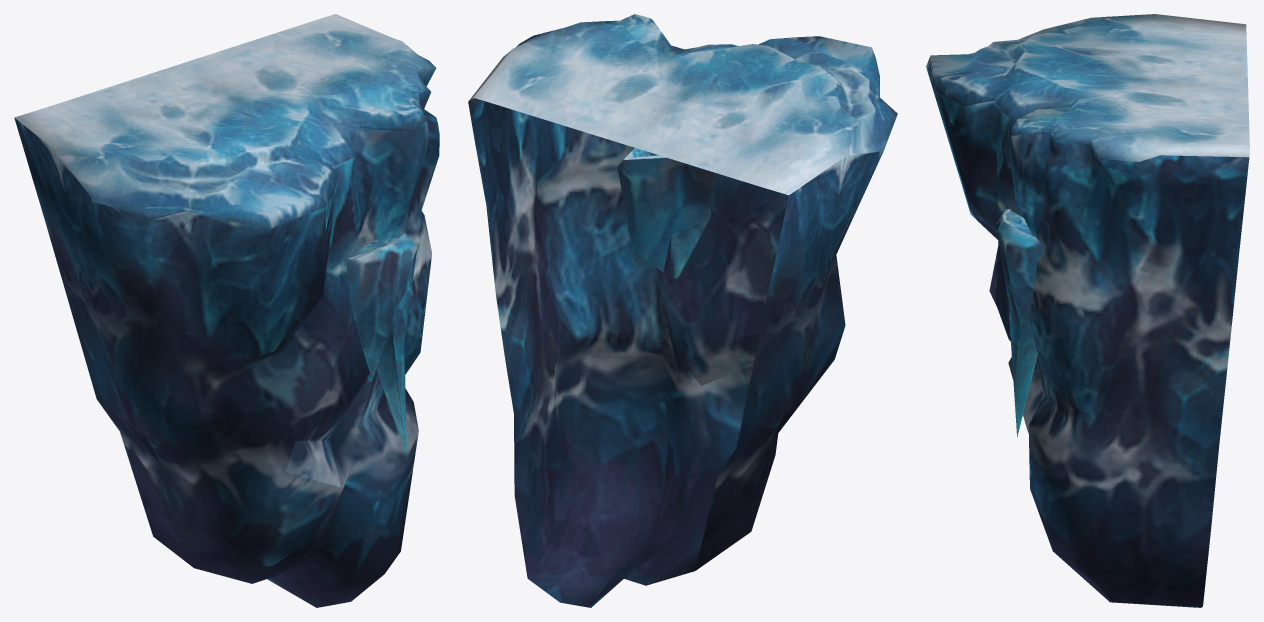
File: bs_binshan_5.FBX
The picture shows the model from 3 angles, left to right: view 1: azimuth 30°, elevation 25°; view 2: azimuth 150°, elevation 25°; view 3: azimuth 270°, elevation 25°; orthographic projection. The views are drawn at different scales.
Parts seen in each view (by area): view 1: bs_binshan_5; view 2: bs_binshan_5; view 3: bs_binshan_5.
Boxes of the visible parts, x1,y1,x2,y2 form: bs_binshan_5: (14, 14, 439, 607); bs_binshan_5: (468, 14, 897, 607); bs_binshan_5: (926, 14, 1249, 607).
Bounding box in the file's own units: 1700 × 2453 × 1444.
